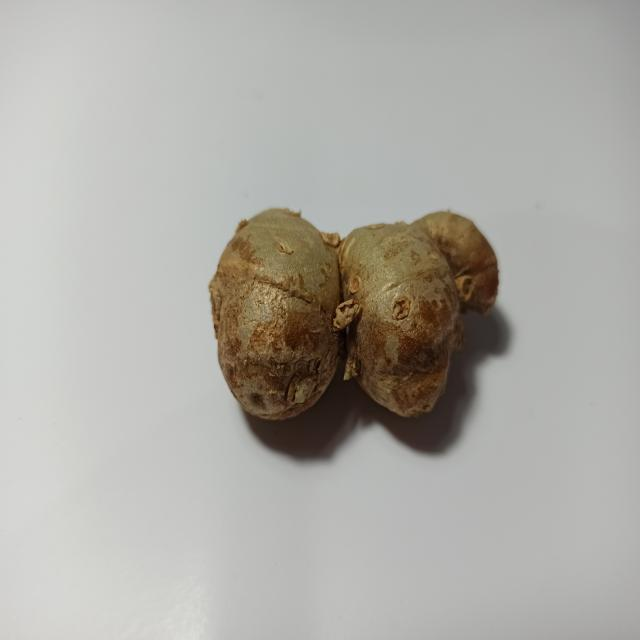ginger: (215, 207, 500, 438)
